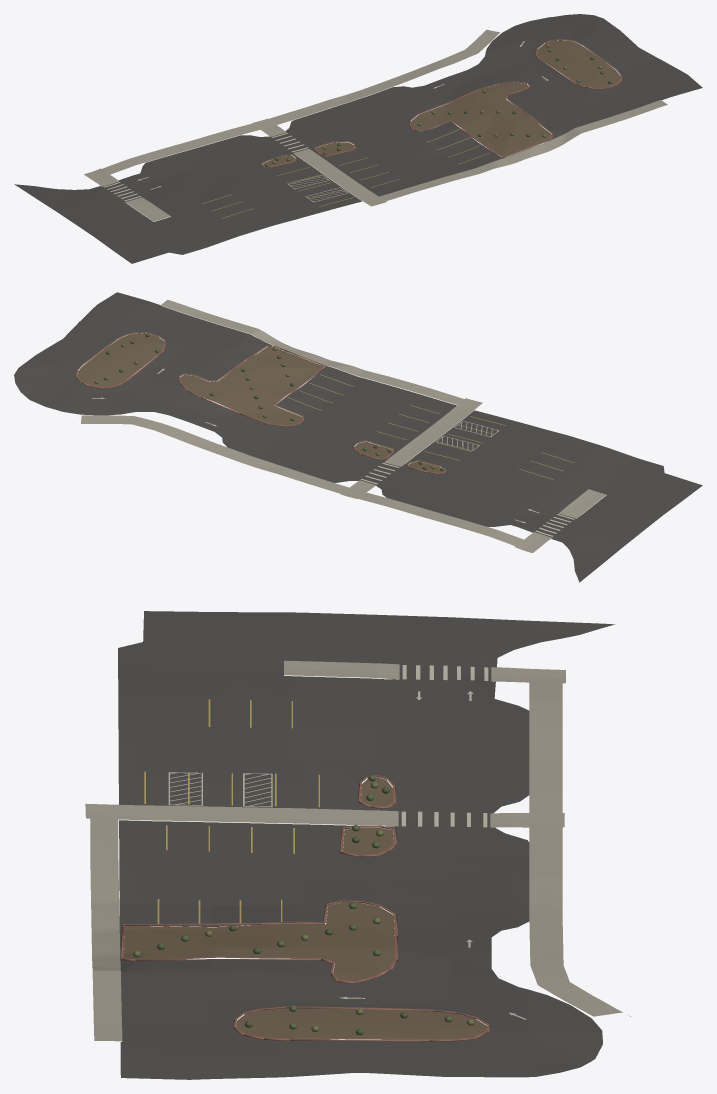
The model's file is site.glb.
3 renders of one model, top to bottom at view 1: azimuth 30°, elevation 25°; view 2: azimuth 150°, elevation 25°; view 3: azimuth 270°, elevation 25°, orthographic. The views are drawn at different scales.
Parts seen in each view (by area): view 1: clinical-dropoff-paving, clinical-dropoff-markings, clinical-dropoff-planting; view 2: clinical-dropoff-paving, clinical-dropoff-markings, clinical-dropoff-planting; view 3: clinical-dropoff-paving, clinical-dropoff-markings, clinical-dropoff-planting.
Part boxes in pixels (left/top/right/bottom): clinical-dropoff-paving: left=14, top=14, right=702, bottom=263; clinical-dropoff-markings: left=104, top=41, right=548, bottom=218; clinical-dropoff-planting: left=264, top=44, right=611, bottom=166; clinical-dropoff-paving: left=14, top=292, right=702, bottom=582; clinical-dropoff-markings: left=92, top=368, right=574, bottom=536; clinical-dropoff-planting: left=94, top=333, right=444, bottom=470; clinical-dropoff-paving: left=85, top=611, right=630, bottom=1079; clinical-dropoff-markings: left=144, top=665, right=526, bottom=1019; clinical-dropoff-planting: left=133, top=774, right=474, bottom=1034.
Size of the model in its own units: 84.56 by 7 by 35.25.
